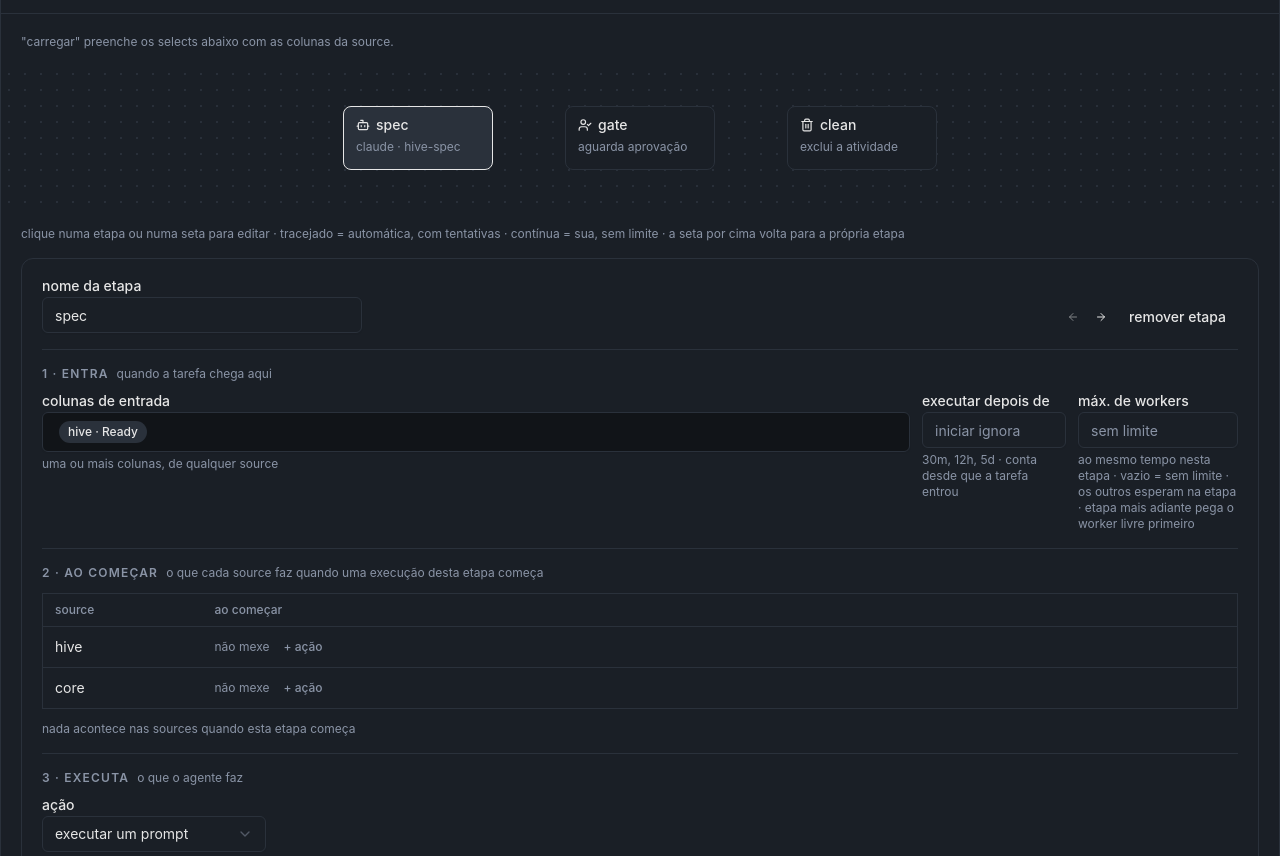
Test: each field carries its own short hint; the help paragraph is gone (#524)
Expected: the text "ao mesmo tempo nesta etapa · vazio = sem limite · os outros esperam na etapa · etapa mais adiante pega o worker livre pr" is shown, [1078,452,1236,531]
Expected: the text "30m, 12h, 5d · conta desde que a tarefa entrou" is shown, [922,452,1037,499]
Click the dropdown named "ação": (154, 834) [42,816,266,852]
(page scrolled)
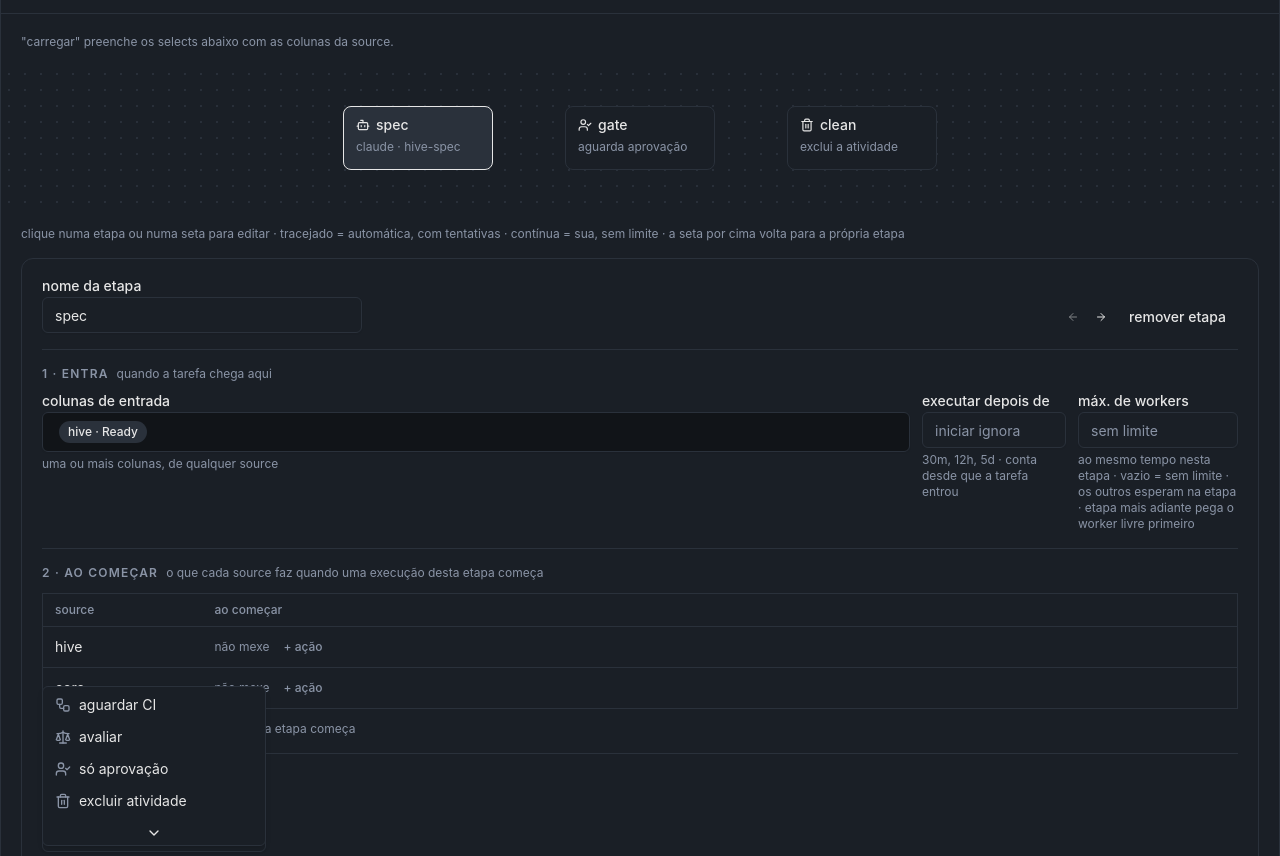
Click the option "excluir atividade": (121, 800) [55,792,187,809]
(page scrolled)
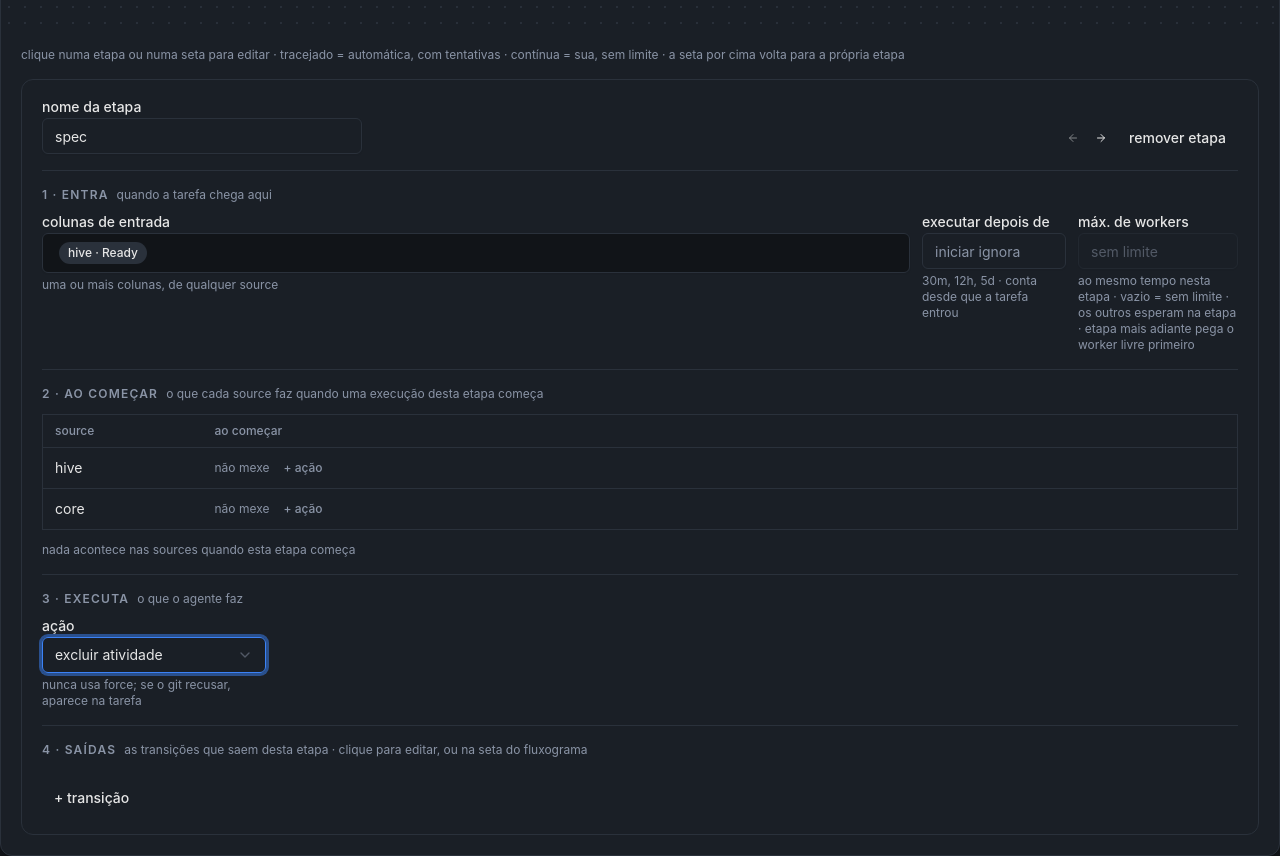
Now the text "nunca usa force; se o git recusar, aparece na tarefa" is shown, box [42,677,231,708]
